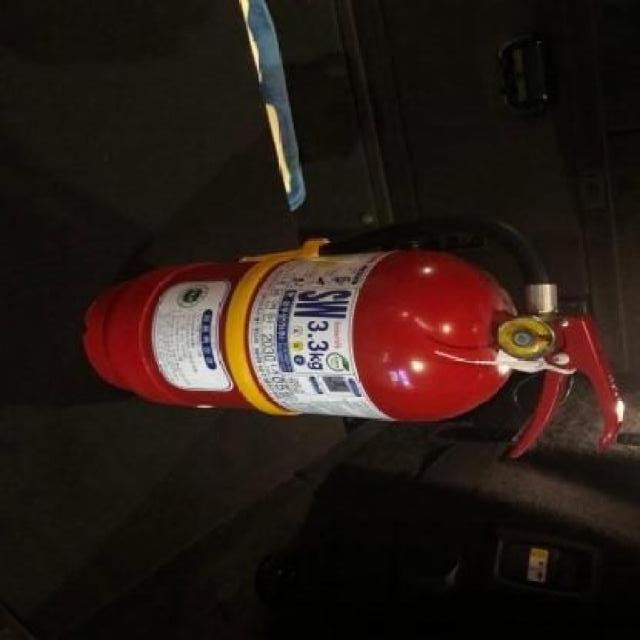fire extinguisher: (82, 219, 624, 458)
